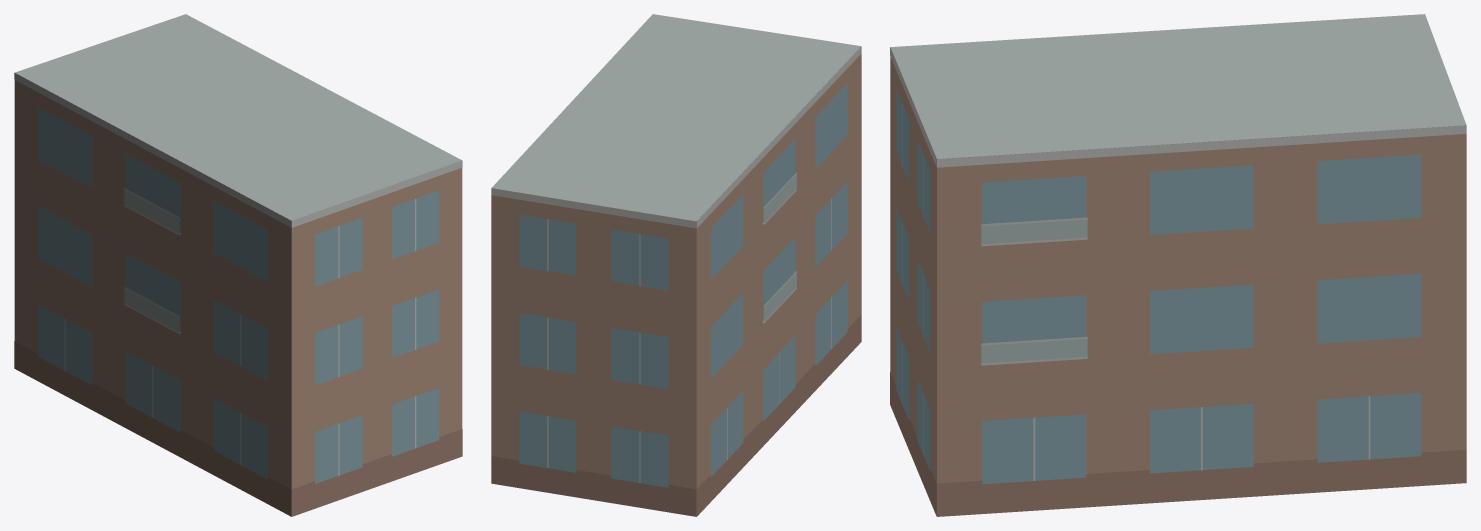
Rendered from survey-upis-32746681.glb.
The picture shows the model from 3 angles, left to right: view 1: azimuth 30°, elevation 25°; view 2: azimuth 150°, elevation 25°; view 3: azimuth 270°, elevation 25°; orthographic projection. The views are drawn at different scales.
Parts seen in each view (by area): view 1: survey-upis-32746681.tmp; view 2: survey-upis-32746681.tmp; view 3: survey-upis-32746681.tmp.
Boxes of the visible parts, <box> form: survey-upis-32746681.tmp: <box>14,14,462,516</box>; survey-upis-32746681.tmp: <box>491,14,861,516</box>; survey-upis-32746681.tmp: <box>890,14,1466,516</box>.
Bounding box in the file's own units: 8.88 × 10.2 × 14.9.
